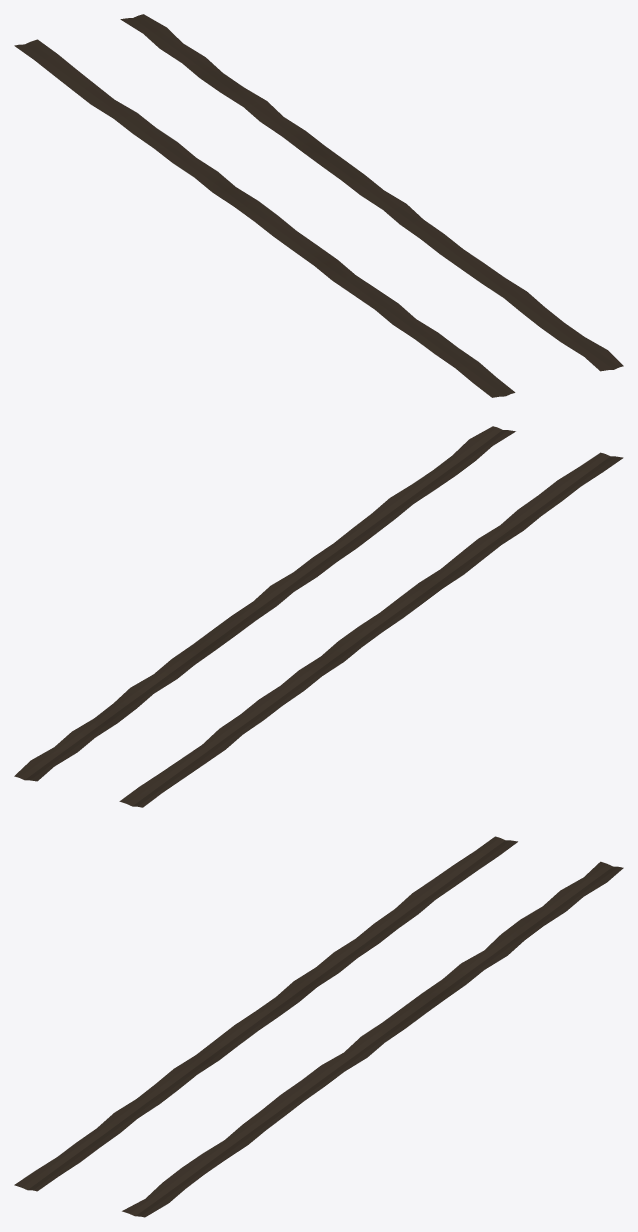
The model's file is track_rut_pair.glb.
3 renders of one model, top to bottom at view 1: azimuth 30°, elevation 25°; view 2: azimuth 150°, elevation 25°; view 3: azimuth 330°, elevation 25°, orthographic.
Parts seen in each view (by area): view 1: track_rut_l_LOD0, track_rut_r_LOD0; view 2: track_rut_l_LOD0, track_rut_r_LOD0; view 3: track_rut_r_LOD0, track_rut_l_LOD0.
Boxes of the visible parts, x1,y1,x2,y2 form: track_rut_l_LOD0: [14, 39, 515, 397]; track_rut_r_LOD0: [120, 14, 623, 371]; track_rut_l_LOD0: [119, 452, 623, 807]; track_rut_r_LOD0: [14, 426, 515, 781]; track_rut_r_LOD0: [122, 861, 623, 1217]; track_rut_l_LOD0: [14, 836, 517, 1191].
Bounding box in the file's own units: 1.96 × 0.0329 × 12.
